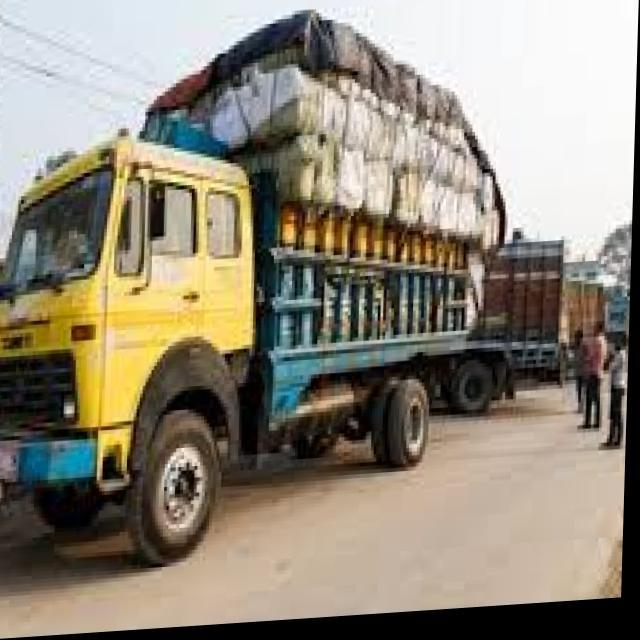uncovered: (0, 4, 496, 579)
